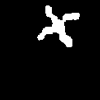single_crochet: (37, 6, 79, 46)
